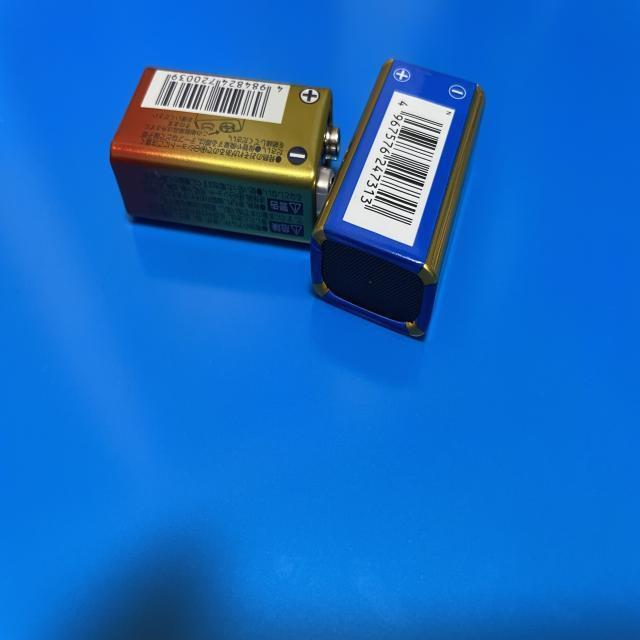9V: (311, 58, 488, 340), (108, 67, 341, 245)
